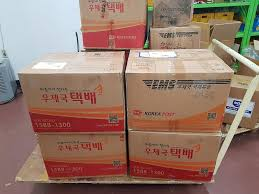undamaged: (17, 0, 235, 183)
